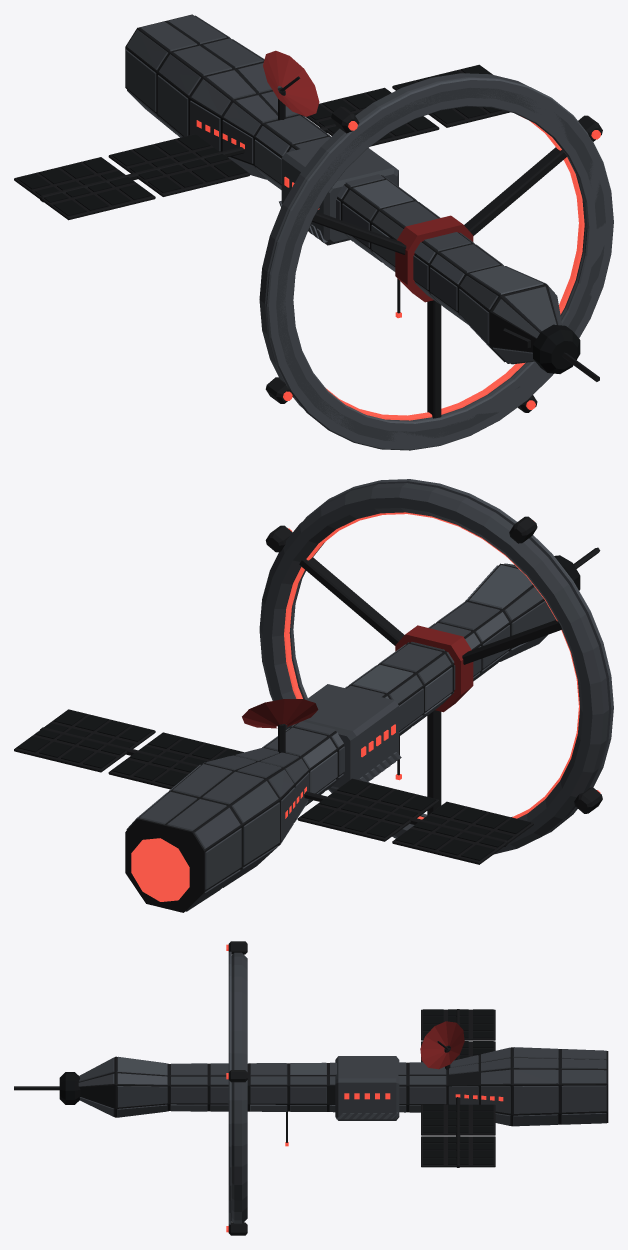
The model's file is pirate_interdictor.glb.
The picture shows the model from 3 angles, top to bottom: view 1: azimuth 30°, elevation 25°; view 2: azimuth 150°, elevation 25°; view 3: azimuth 270°, elevation 25°; orthographic projection. The views are drawn at different scales.
Parts seen in each view (by area): view 1: primary, accent, structure, glass, accent2, engineGlow, windows; view 2: primary, structure, glass, accent, engineGlow, accent2; view 3: primary, structure, glass, accent, accent2, windows.
Part boxes in pixels (bbox=[...]): primary: bbox=[125, 15, 605, 441]; accent: bbox=[254, 77, 613, 450]; structure: bbox=[14, 14, 602, 418]; glass: bbox=[17, 65, 580, 373]; accent2: bbox=[263, 50, 473, 302]; engineGlow: bbox=[326, 116, 584, 420]; windows: bbox=[196, 120, 600, 409]; primary: bbox=[126, 483, 608, 911]; structure: bbox=[14, 516, 602, 912]; glass: bbox=[17, 555, 580, 860]; accent: bbox=[289, 479, 613, 835]; engineGlow: bbox=[131, 512, 579, 901]; accent2: bbox=[242, 625, 473, 728]; primary: bbox=[78, 952, 606, 1223]; structure: bbox=[14, 941, 608, 1235]; glass: bbox=[59, 1009, 493, 1164]; accent: bbox=[117, 951, 422, 1224]; accent2: bbox=[420, 1021, 464, 1069]; windows: bbox=[226, 944, 503, 1232].
Bounding box in the file's own units: 16.96 × 12.63 × 27.55.
